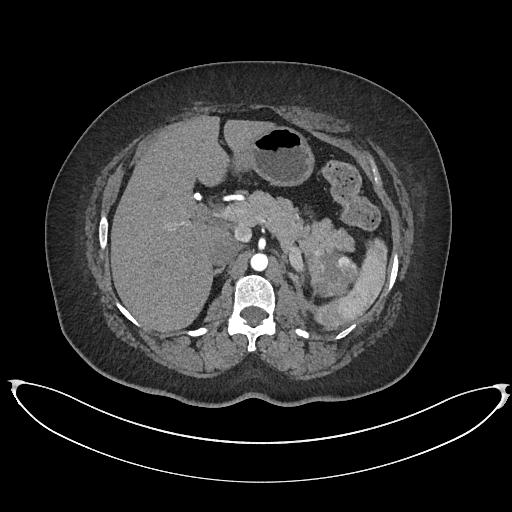Lesion: (335, 255, 353, 271)
